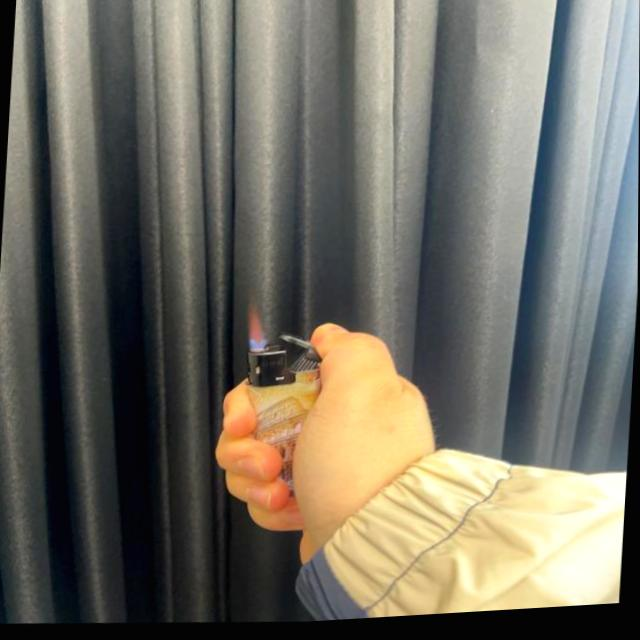helmet: (245, 306, 272, 354)
